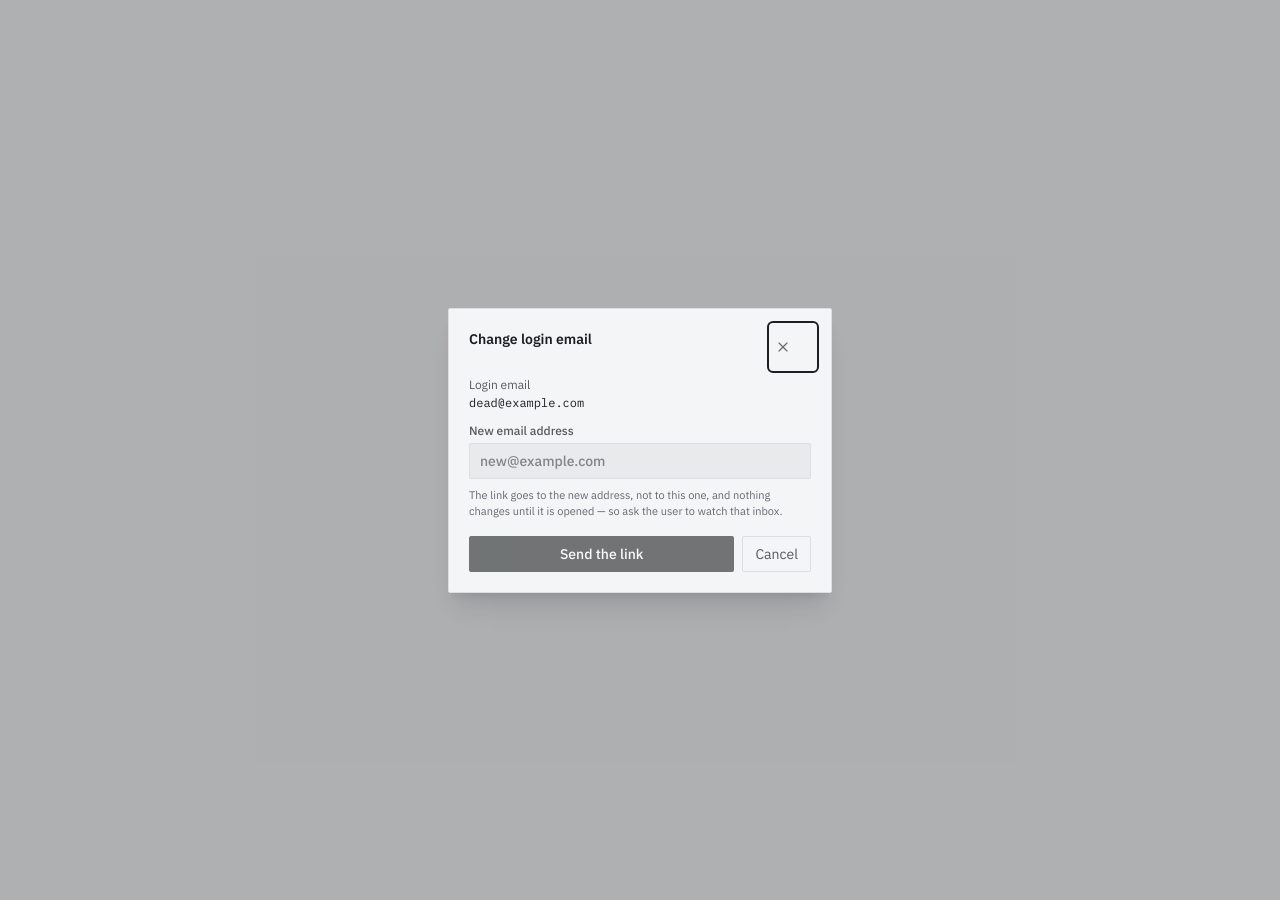
Test: will not send an empty address
Expected: the button with test id "confirm-change-email" is disabled, [469,536,734,572]
Type "a" into the field with test id "change-email-input" at (640, 460), box [469,442,811,478]
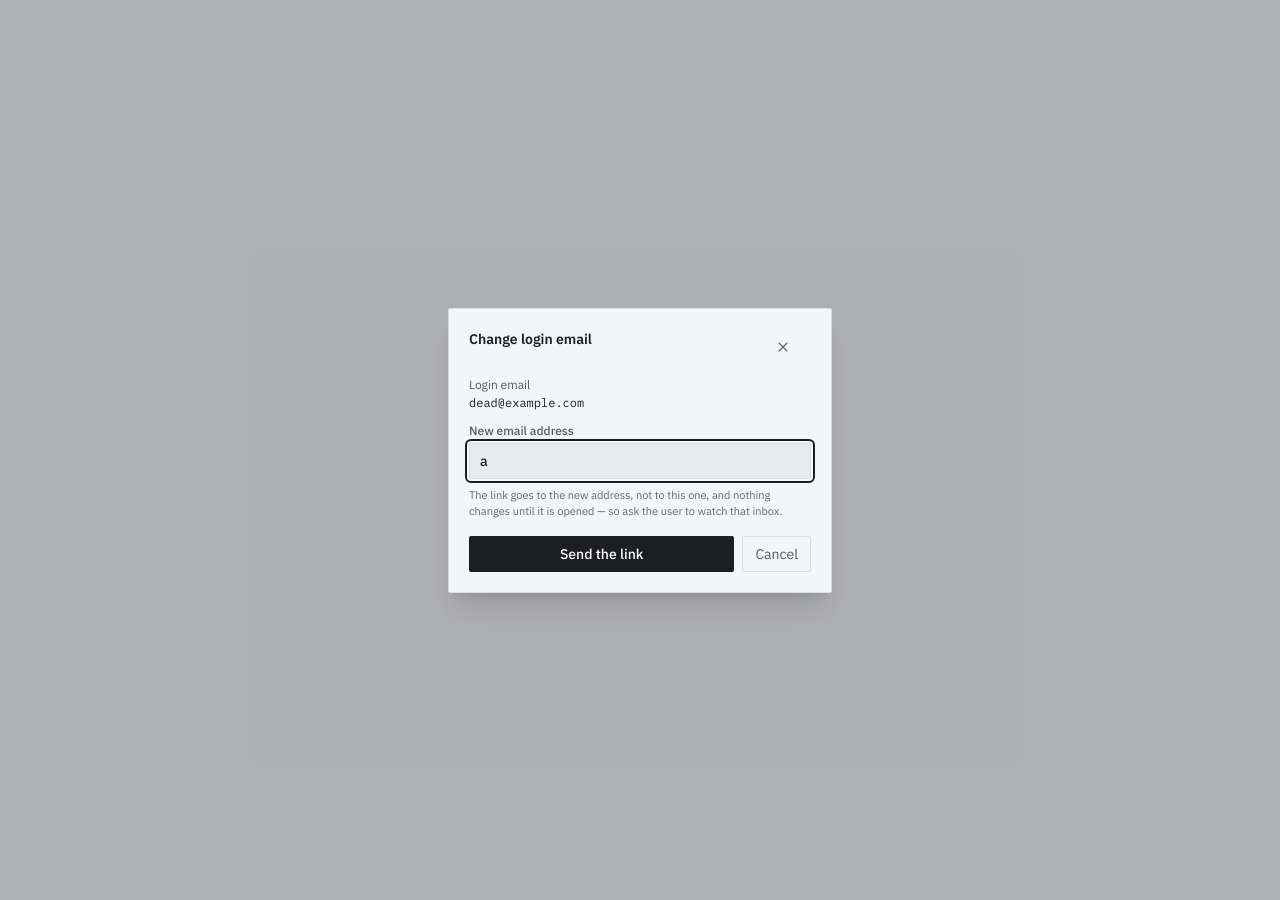
Expected: the button with test id "confirm-change-email" is enabled, [469,536,734,572]
